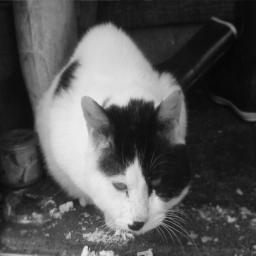catnose: (128, 221, 145, 231)
